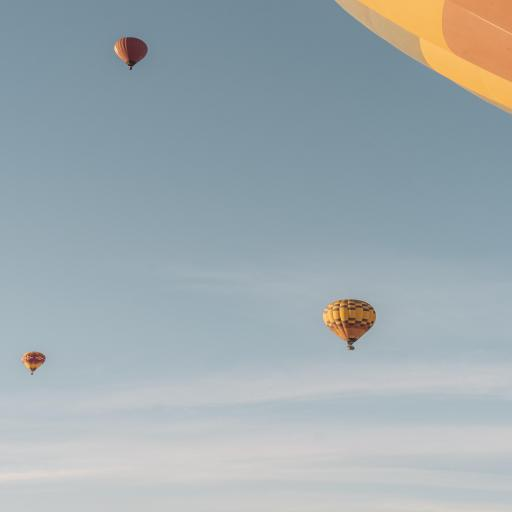hot air ballon: (322, 295, 378, 349), (112, 34, 151, 72), (22, 348, 50, 378)
